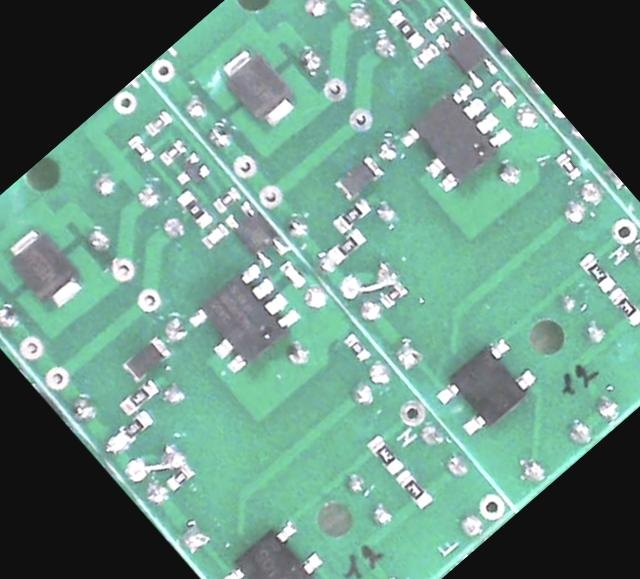chip-capacitor: (485, 76, 520, 112), (196, 218, 231, 252), (275, 257, 309, 292), (407, 39, 441, 72)
chip-resistor: (360, 429, 408, 479), (573, 248, 619, 297), (382, 5, 427, 52), (390, 467, 434, 513), (115, 375, 161, 418), (172, 187, 215, 233), (324, 225, 368, 267), (329, 194, 373, 236), (114, 407, 154, 446), (605, 285, 640, 329), (338, 329, 374, 366), (551, 149, 585, 185), (419, 3, 454, 37), (123, 130, 157, 165), (154, 136, 189, 169), (375, 278, 409, 311), (209, 183, 243, 216), (140, 108, 174, 140), (162, 462, 196, 494)
diode: (212, 39, 306, 136), (0, 221, 90, 316), (117, 332, 175, 387), (329, 150, 387, 205)
ic: (181, 256, 306, 380), (393, 77, 516, 198), (429, 330, 543, 442), (212, 512, 331, 579), (219, 196, 291, 272), (431, 17, 502, 92)
transistor: (166, 147, 214, 194), (378, 0, 422, 12)
